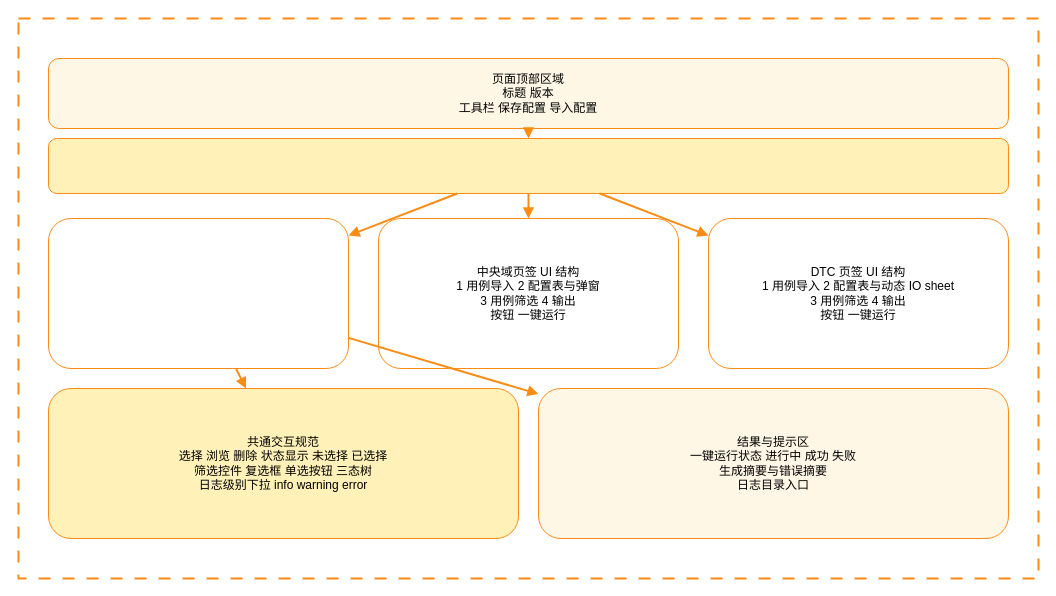
This 1056x596 diagram has some shape labels left out. Here are the shapes that lost their labels. From the top down, the centre of each, then its label:
At pixel 528 166: "页签导航 左右后域 中央域 DTC".
At pixel 198 293: "左右后域页签 UI 结构 1 用例导入 2 配置表 3 用例筛选 4 输出 按钮 一键运行".
